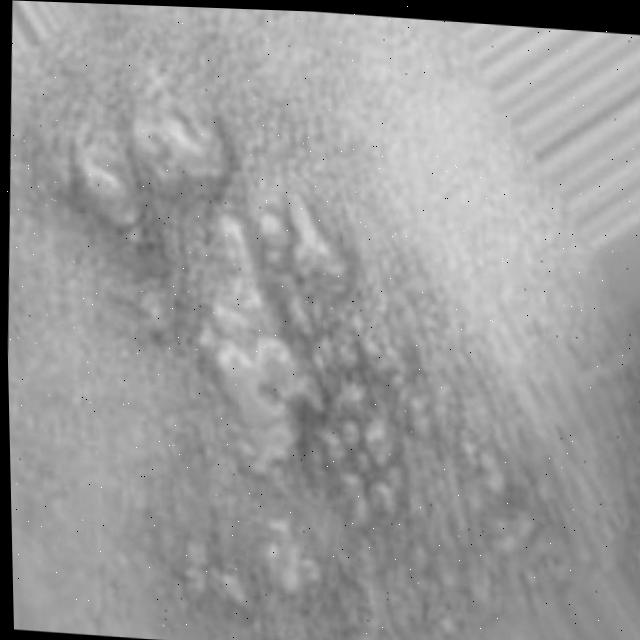Shingles: (47, 99, 594, 640)
